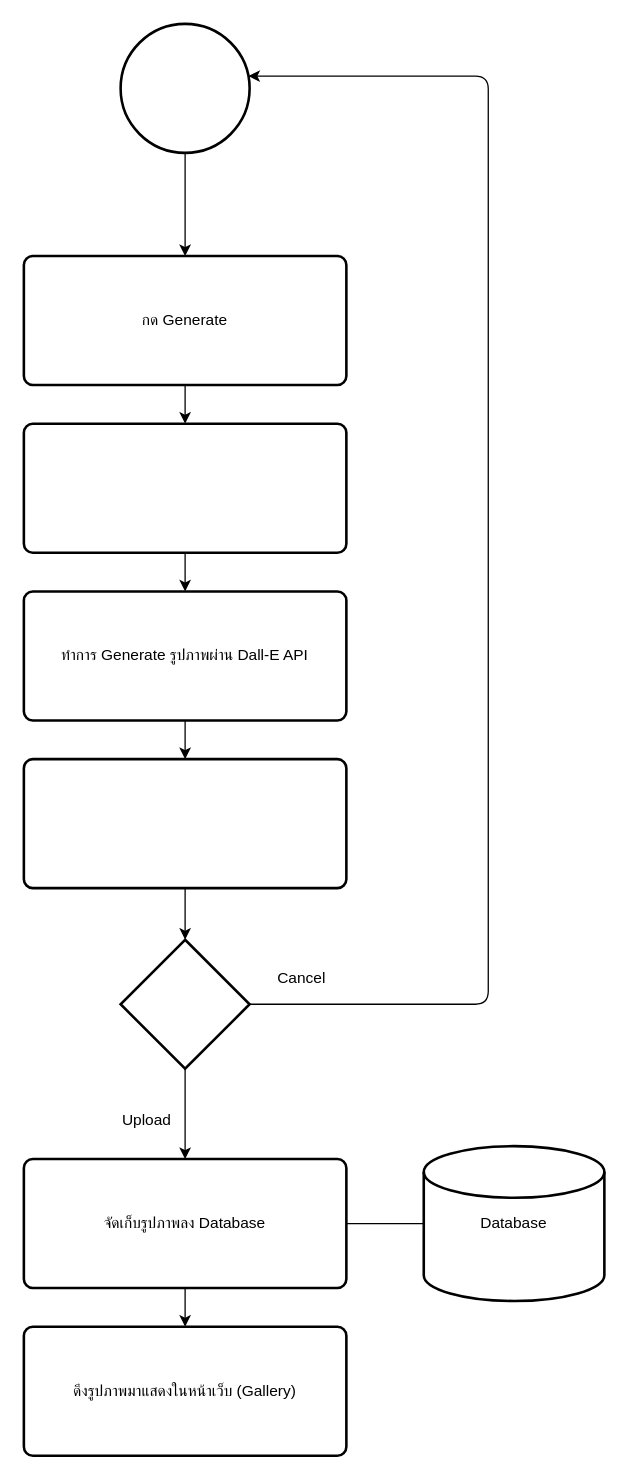
Image size: 627x1478. Some labels were removed from this diagram. Here are the shapes that lost their labels. From the top down, the centre of each, then its label:
At point (184, 487): "ใส่ Prompt ที่ต้องการ".
At point (184, 823): "เมื่อ Generate เสร็จจะให้เลือกระหว่างอัพโหลด กับ ยกเลิก".
